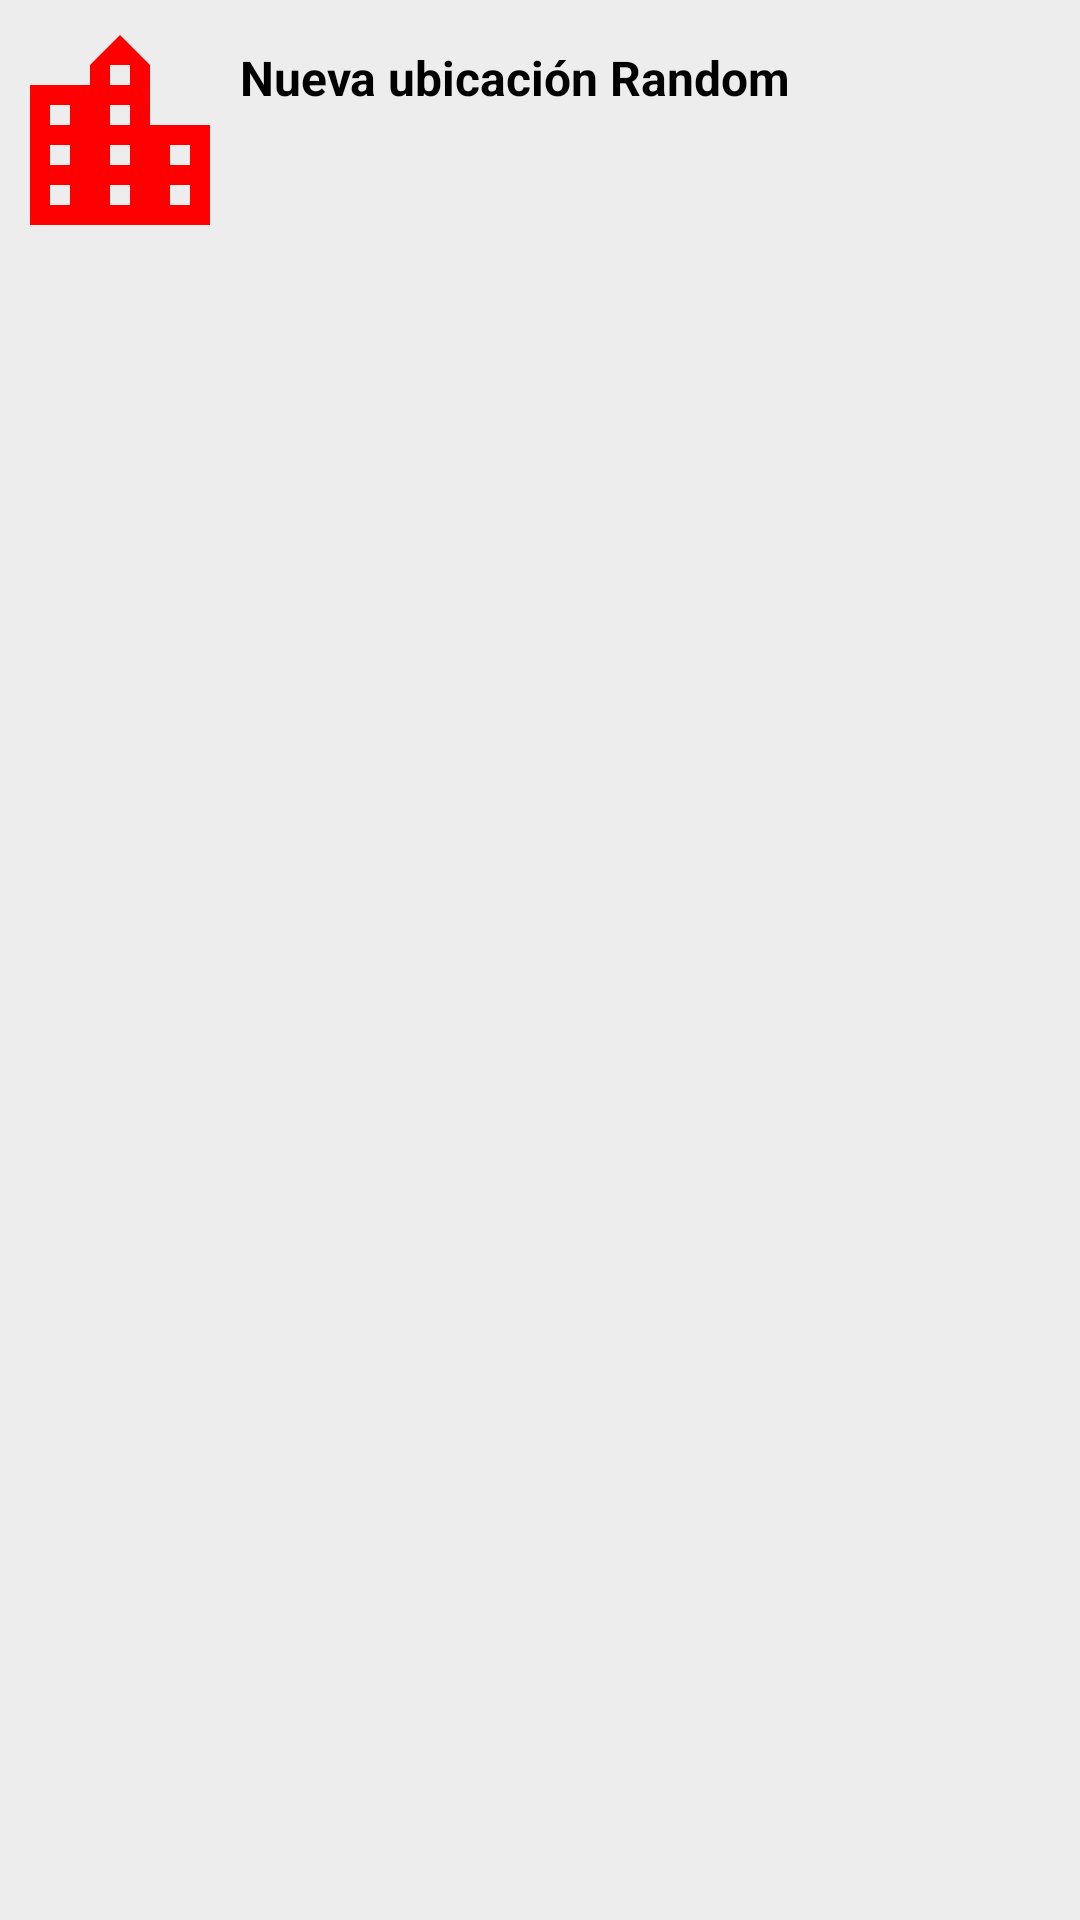

Screen size 1080×1920. Icon name, then its center in pixels as point (x, y):
Imagen de un edificio: point (120, 130)
